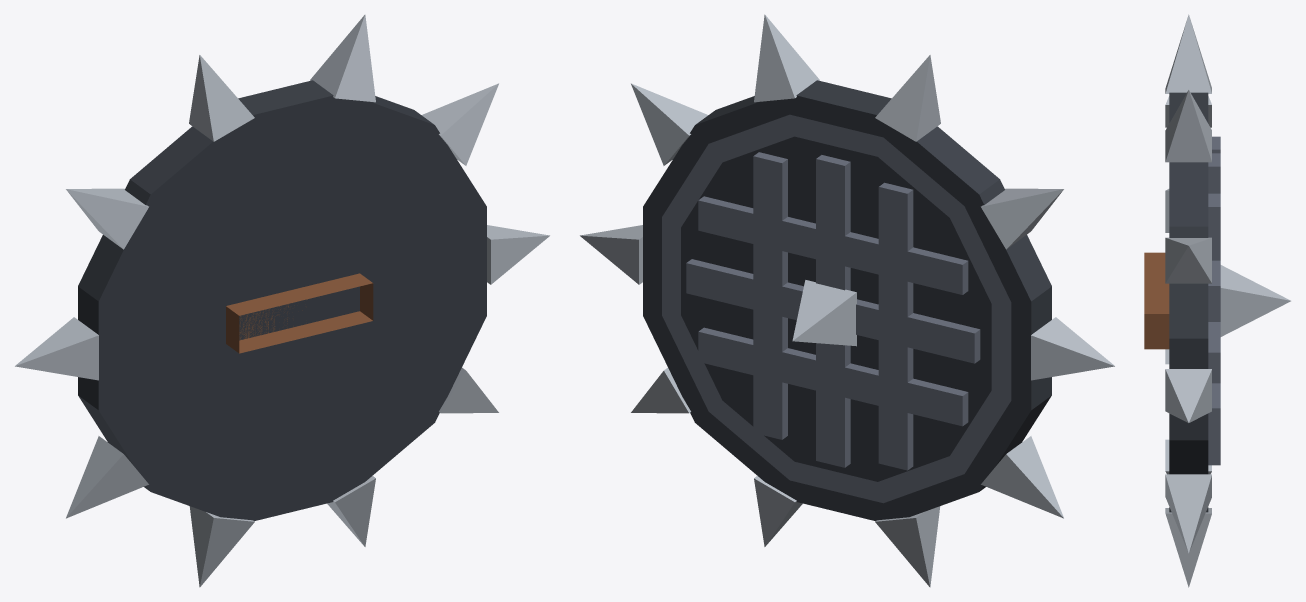
File: FX_Shield3_Manhole.fbx
3 renders of one model, left to right at view 1: azimuth 30°, elevation 25°; view 2: azimuth 150°, elevation 25°; view 3: azimuth 270°, elevation 25°, orthographic. The views are drawn at different scales.
Visible parts, largest first — view 1: FX_Shield3_Manhole; view 2: FX_Shield3_Manhole; view 3: FX_Shield3_Manhole.
Boxes of the visible parts, x1,y1,x2,y2 form: FX_Shield3_Manhole: [15, 14, 549, 587]; FX_Shield3_Manhole: [580, 14, 1114, 587]; FX_Shield3_Manhole: [1144, 14, 1290, 587].
Bounding box in the file's own units: 1.04 × 0.9891 × 0.265.
